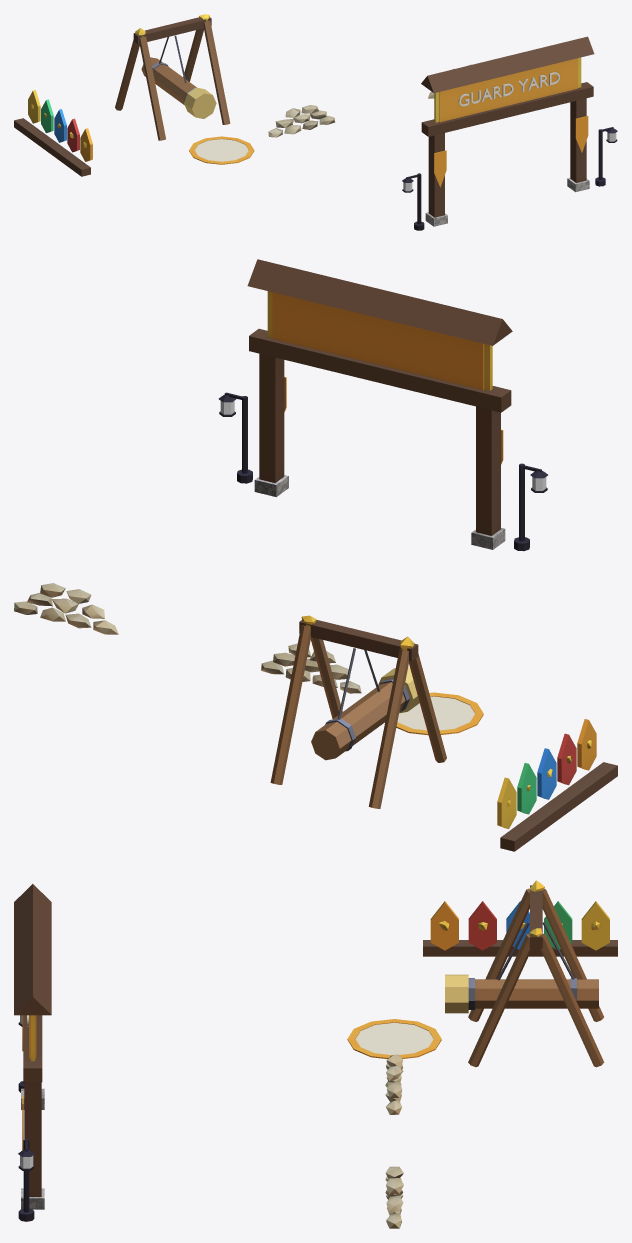
File: area_guard_2_5.fbx
3 renders of one model, top to bottom at view 1: azimuth 30°, elevation 25°; view 2: azimuth 150°, elevation 25°; view 3: azimuth 270°, elevation 25°, orthographic. The views are drawn at different scales.
Visible parts, largest first — view 1: area_guard_2_5_body; view 2: area_guard_2_5_body; view 3: area_guard_2_5_body.
Boxes of the visible parts, x1,y1,x2,y2 form: area_guard_2_5_body: [14, 14, 617, 230]; area_guard_2_5_body: [14, 259, 617, 851]; area_guard_2_5_body: [14, 880, 617, 1228].
Bounding box in the file's own units: 10714 × 3797 × 9600.
2 materials, 1 textured.
